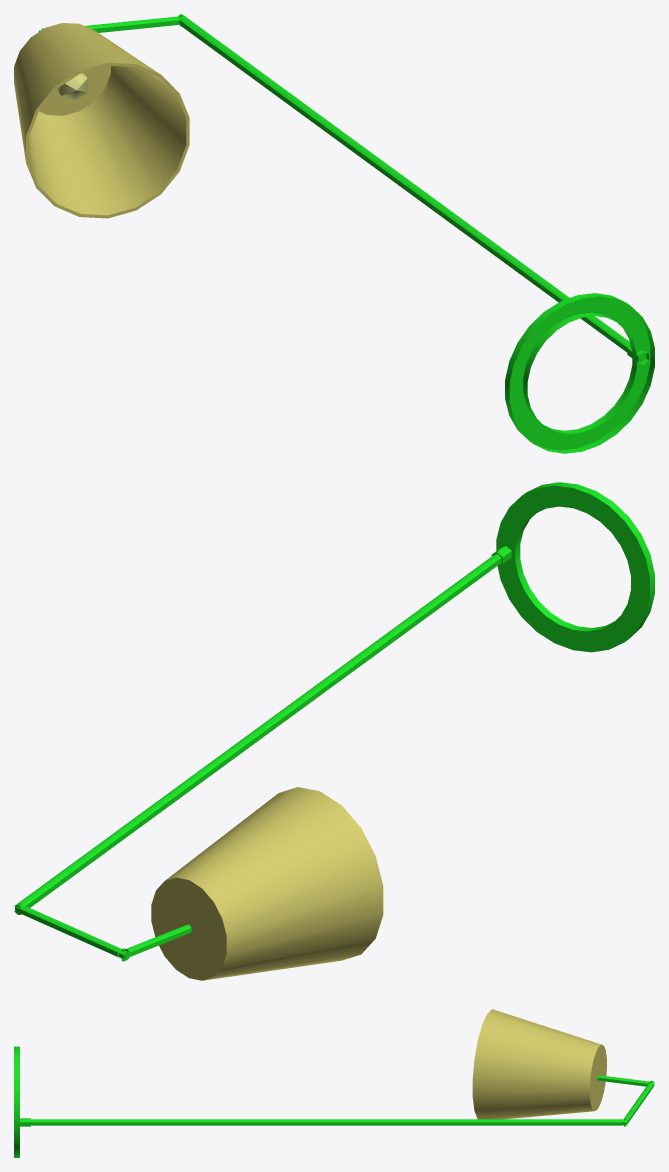
File: torchere_2.FBX
3 renders of one model, top to bottom at view 1: azimuth 30°, elevation 25°; view 2: azimuth 150°, elevation 25°; view 3: azimuth 270°, elevation 25°, orthographic. The views are drawn at different scales.
Visible parts, largest first — view 1: plafond; view 2: plafond; view 3: plafond.
Boxes of the visible parts, left/top/right/bottom form: plafond: left=14, top=14, right=654, bottom=453; plafond: left=14, top=482, right=654, bottom=980; plafond: left=14, top=1009, right=654, bottom=1157.
Size of the model in its own units: 44.26 by 25.46 by 144.
